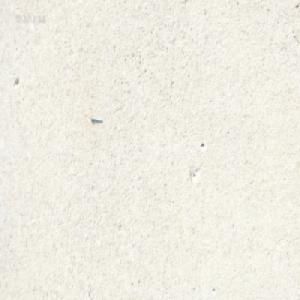Nail: (89, 114, 103, 122)
